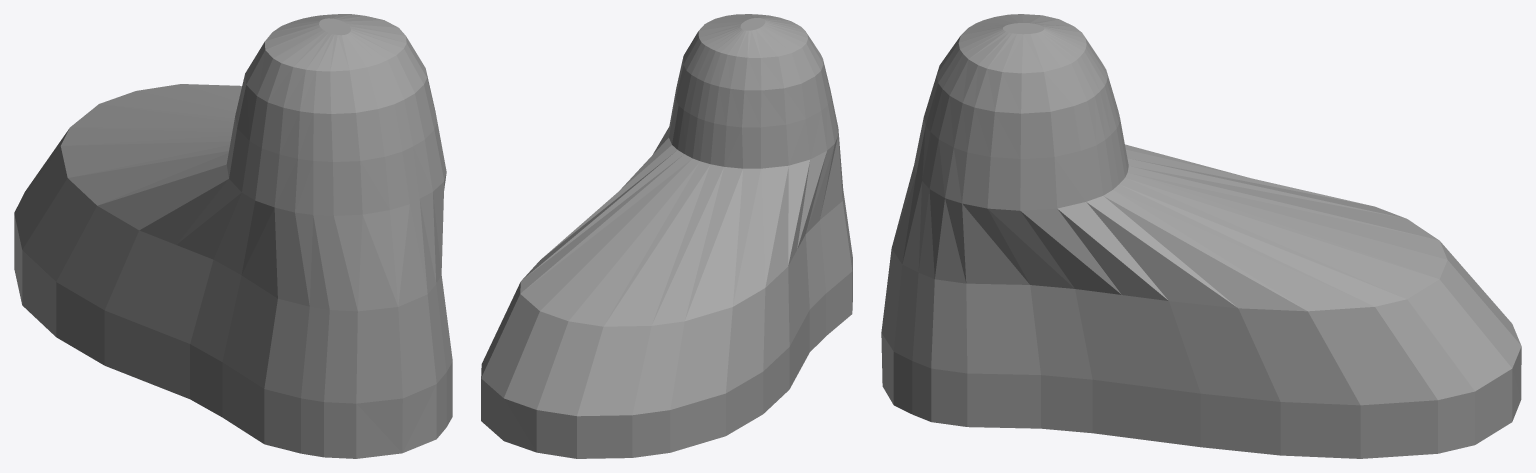
Rendered from footLeft.obj.
The picture shows the model from 3 angles, left to right: view 1: azimuth 30°, elevation 25°; view 2: azimuth 150°, elevation 25°; view 3: azimuth 270°, elevation 25°; orthographic projection. The views are drawn at different scales.
Parts seen in each view (by area): view 1: 足_左_立方体.009; view 2: 足_左_立方体.009; view 3: 足_左_立方体.009.
Boxes of the visible parts, x1,y1,x2,y2 form: 足_左_立方体.009: (14,14,452,458); 足_左_立方体.009: (481,14,852,458); 足_左_立方体.009: (881,14,1521,458).
Bounding box in the file's own units: 0.875 × 1.06 × 1.7.
Materials: 1 (1 with a texture image).
